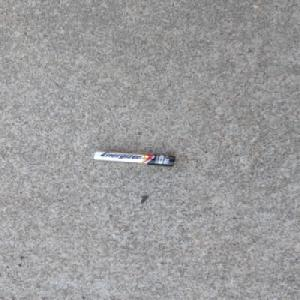Battery: (91, 150, 177, 167)
